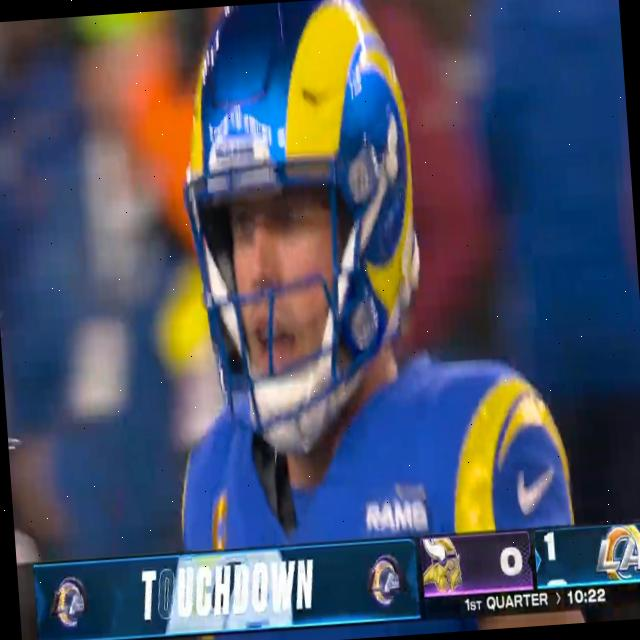Player: (132, 0, 582, 543)
